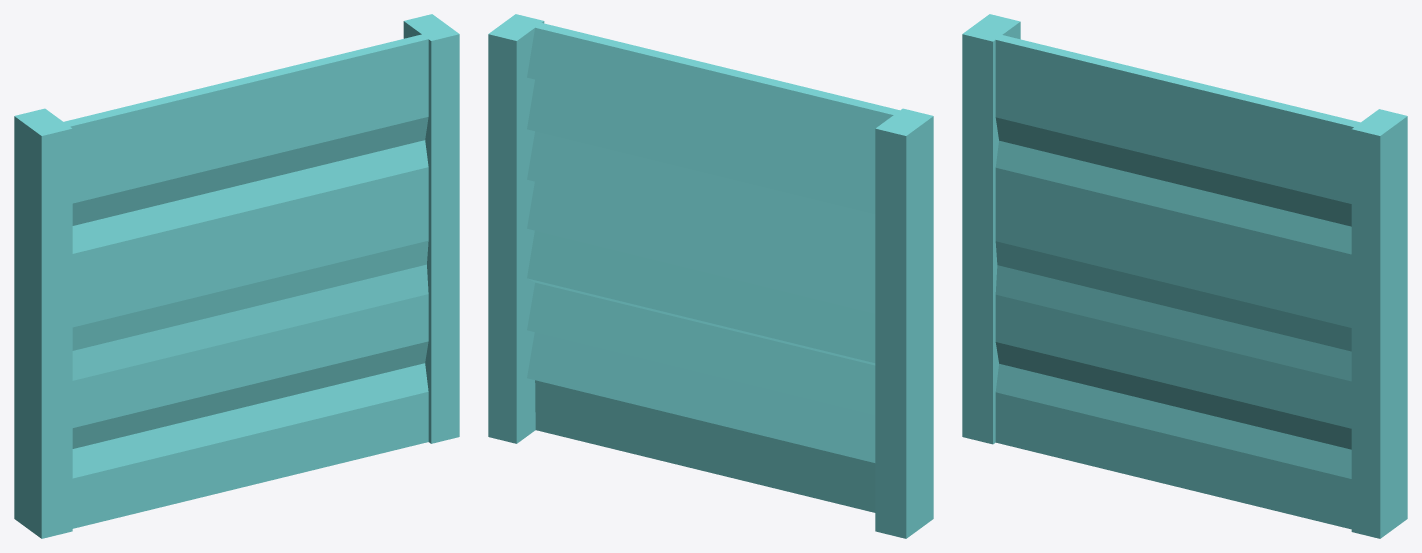
File: korte muur.fbx
The picture shows the model from 3 angles, left to right: view 1: azimuth 30°, elevation 25°; view 2: azimuth 150°, elevation 25°; view 3: azimuth 330°, elevation 25°; orthographic projection.
Visible parts, largest first — view 1: korte muur; view 2: korte muur; view 3: korte muur.
Boxes of the visible parts, x1=… form: korte muur: x1=14, y1=14, x2=459, y2=538; korte muur: x1=488, y1=14, x2=933, y2=538; korte muur: x1=962, y1=14, x2=1407, y2=538.
Size of the model in its own units: 305 by 280 by 34.73.
